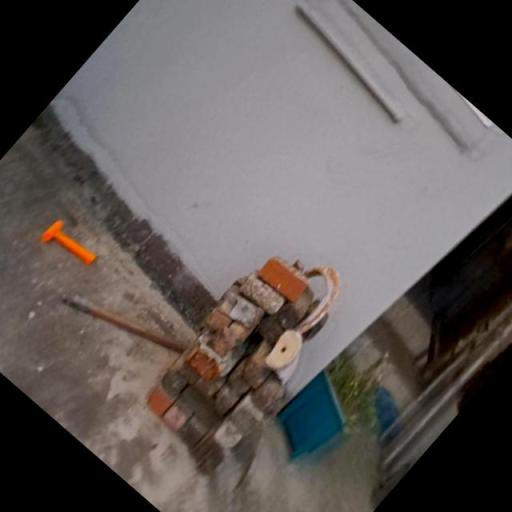mallet: (40, 218, 98, 272)
